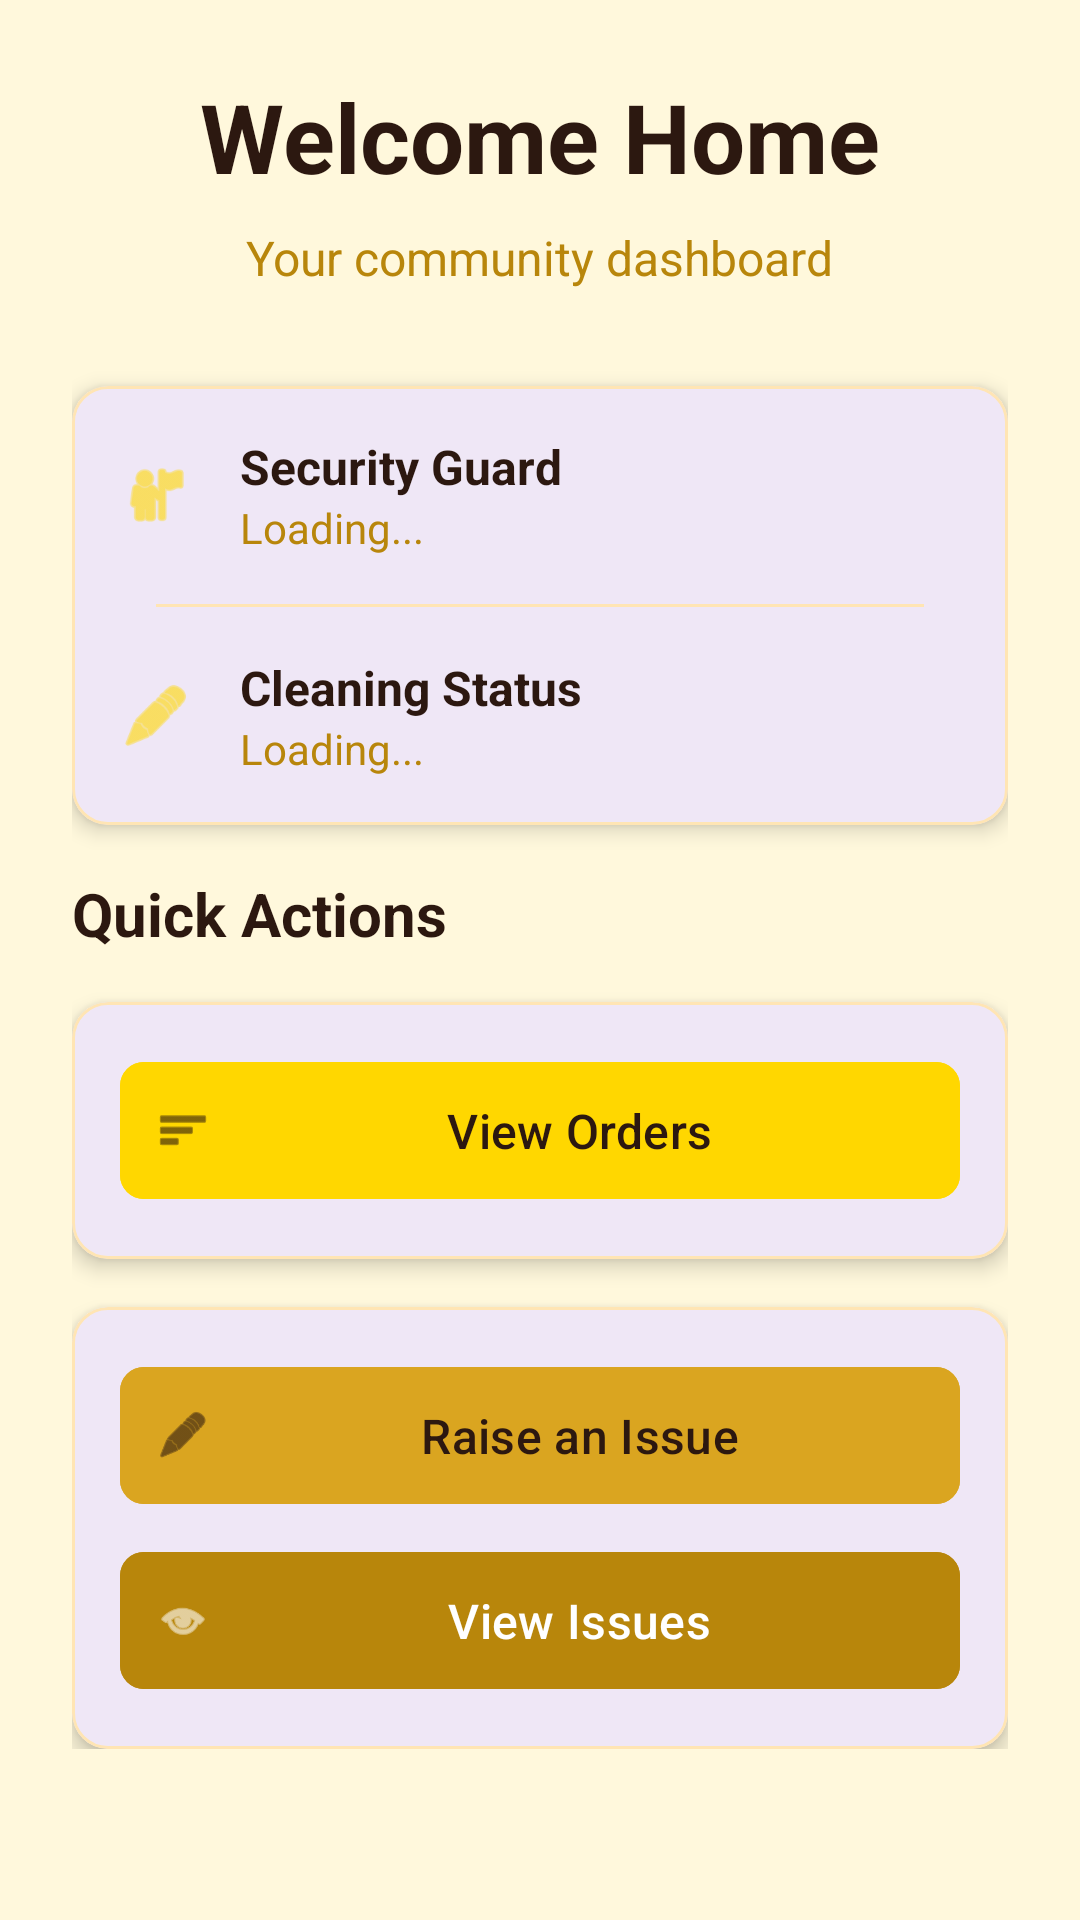

Named icons in this screenshot (1080w x 1920h) and their centers, (x,y):
edit: (155,715)
